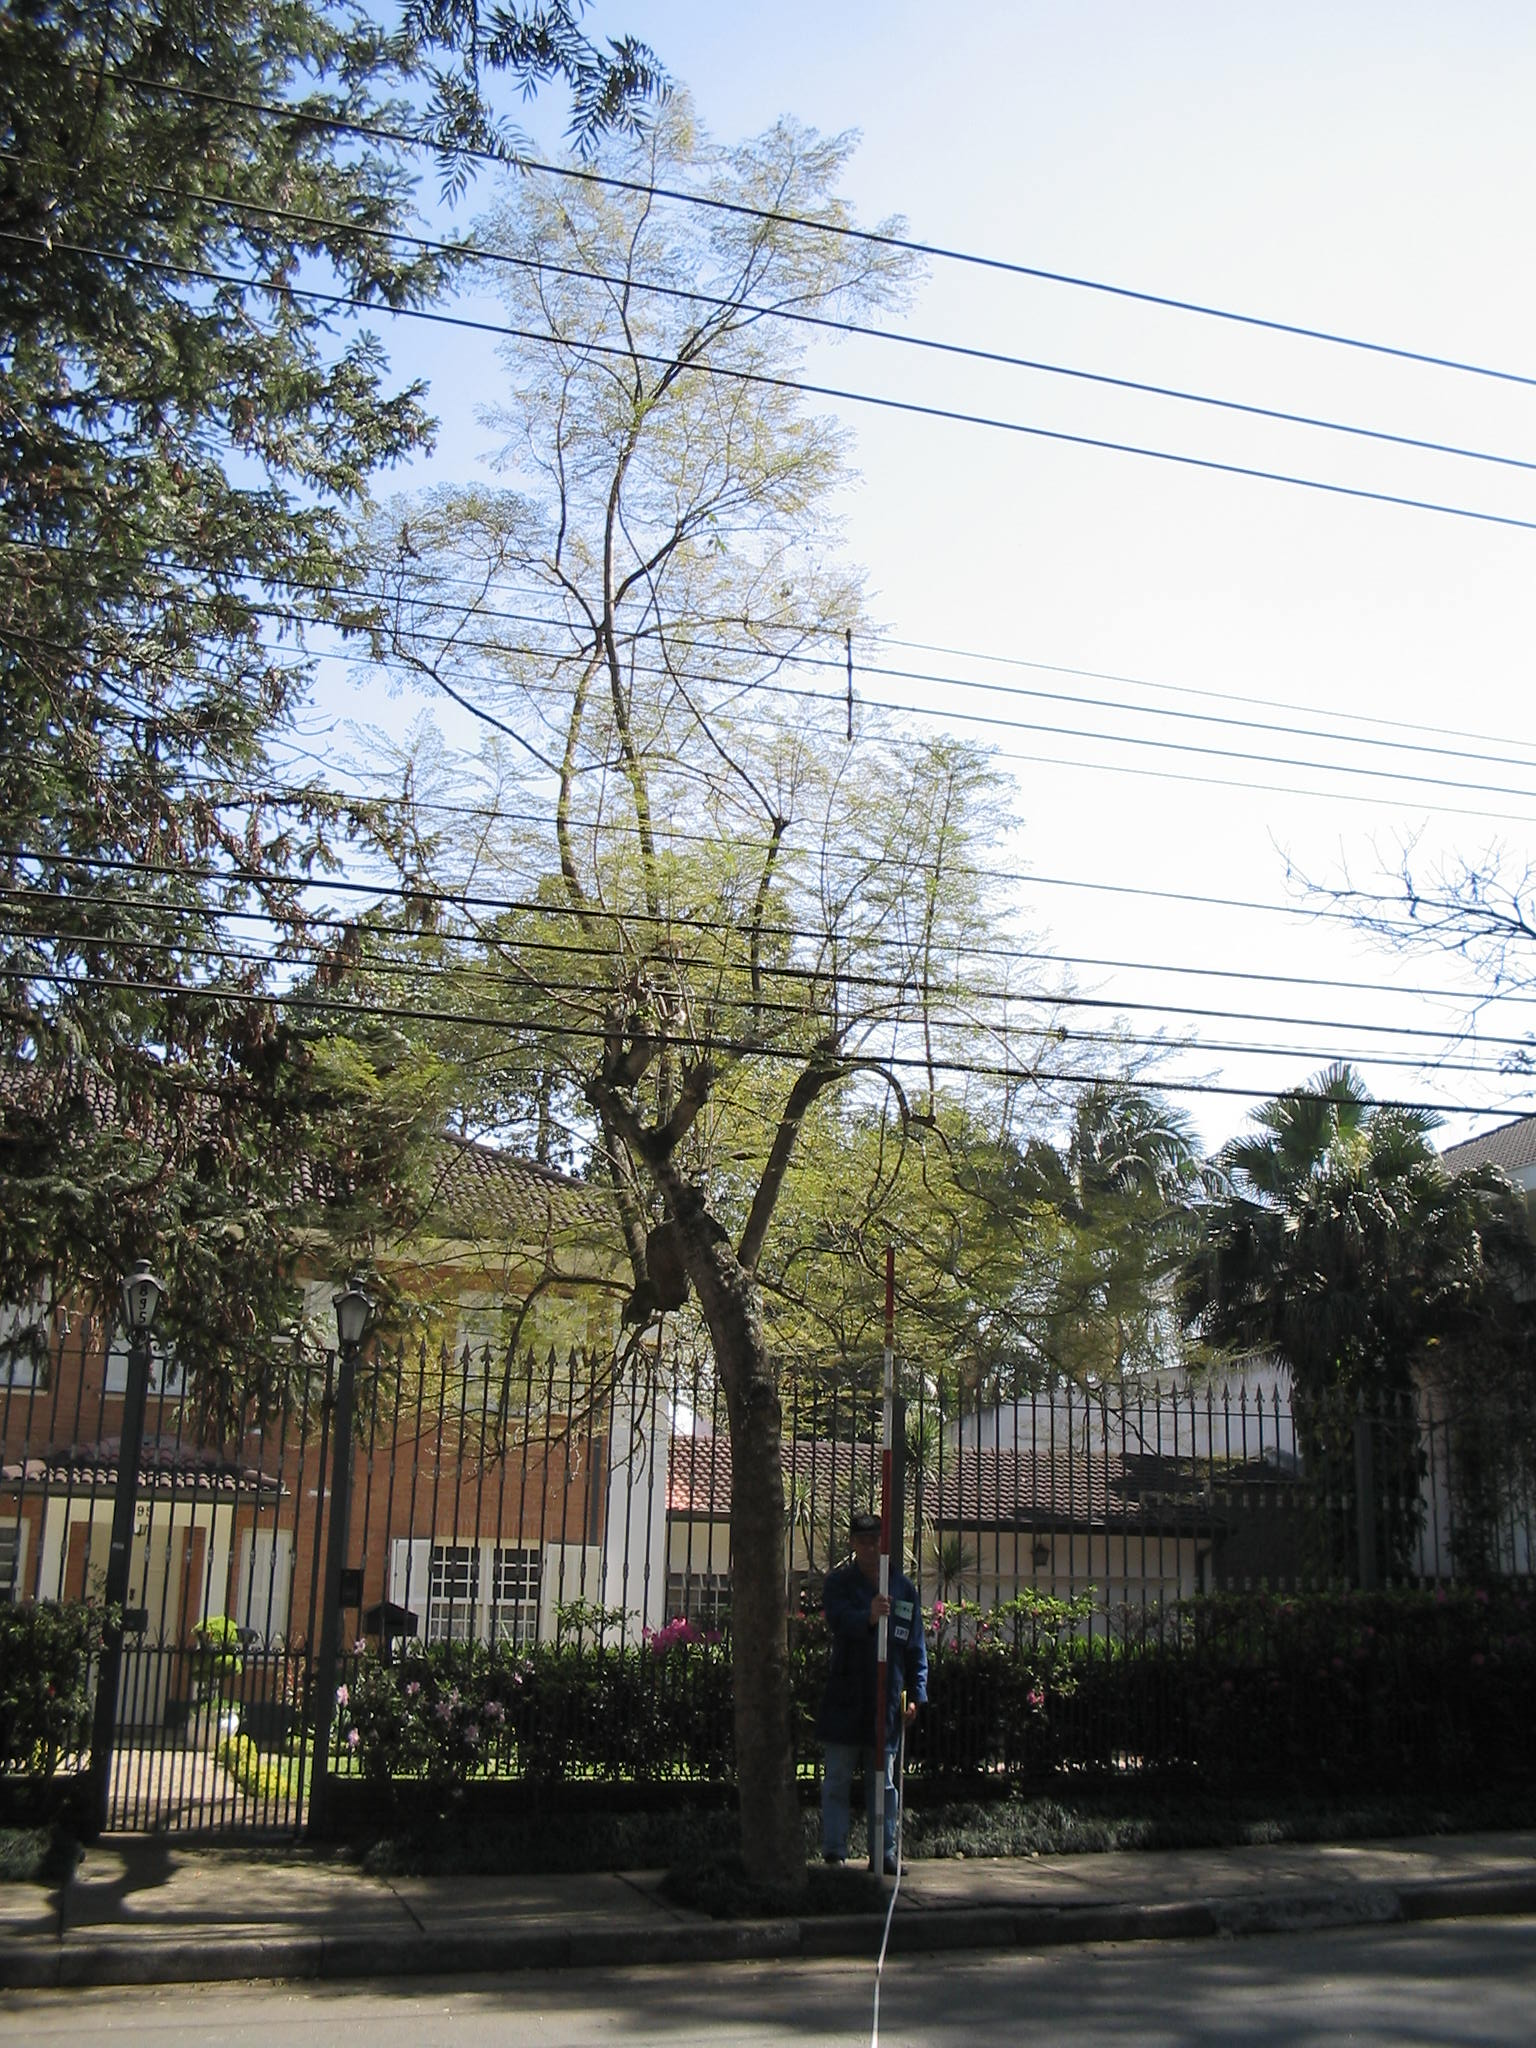crown: (266, 94, 1205, 1293)
stem: (663, 1290, 842, 1885)
stick: (852, 1250, 910, 1872)
tree: (257, 82, 1213, 1890)
